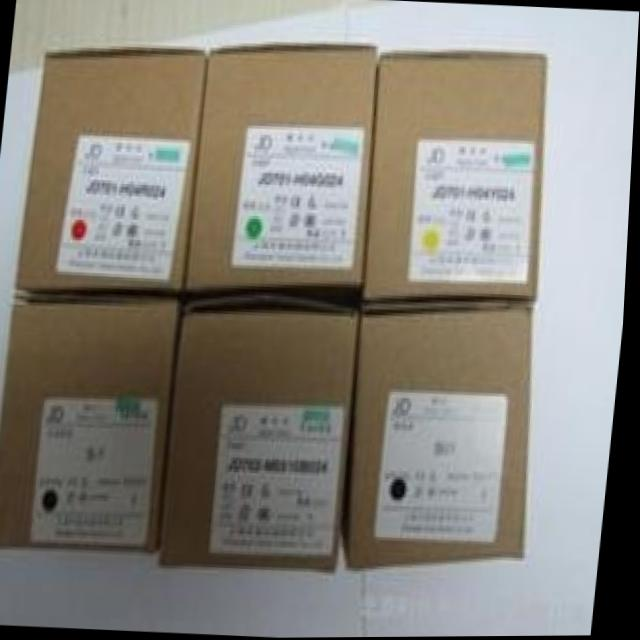box: (165, 308, 365, 573), (352, 304, 534, 570), (186, 47, 379, 292), (18, 54, 207, 294), (0, 297, 182, 546), (369, 51, 548, 297)
